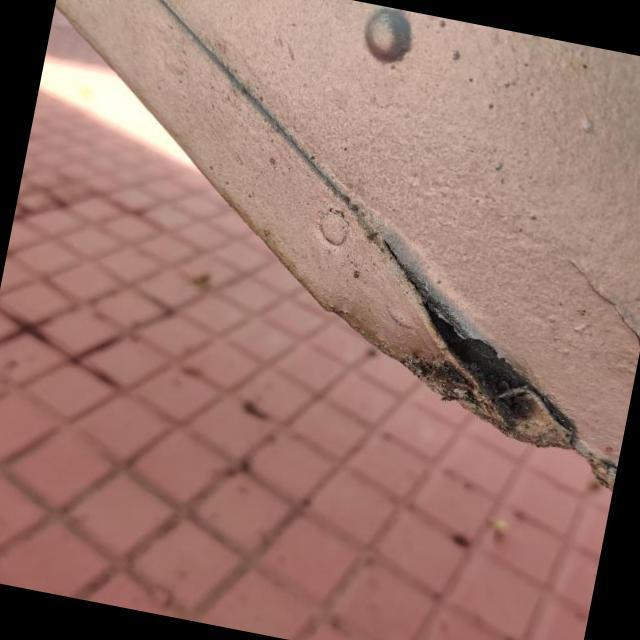Rupture: (362, 248, 569, 452)
